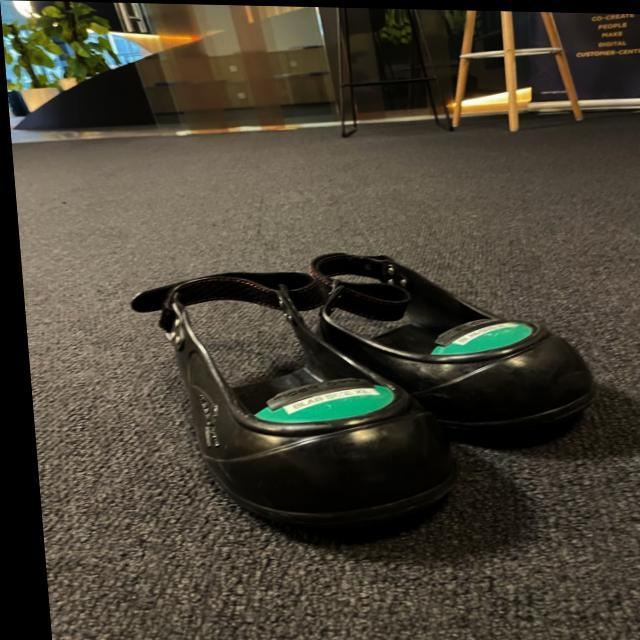shoes: (145, 282, 459, 552), (303, 251, 596, 454)
